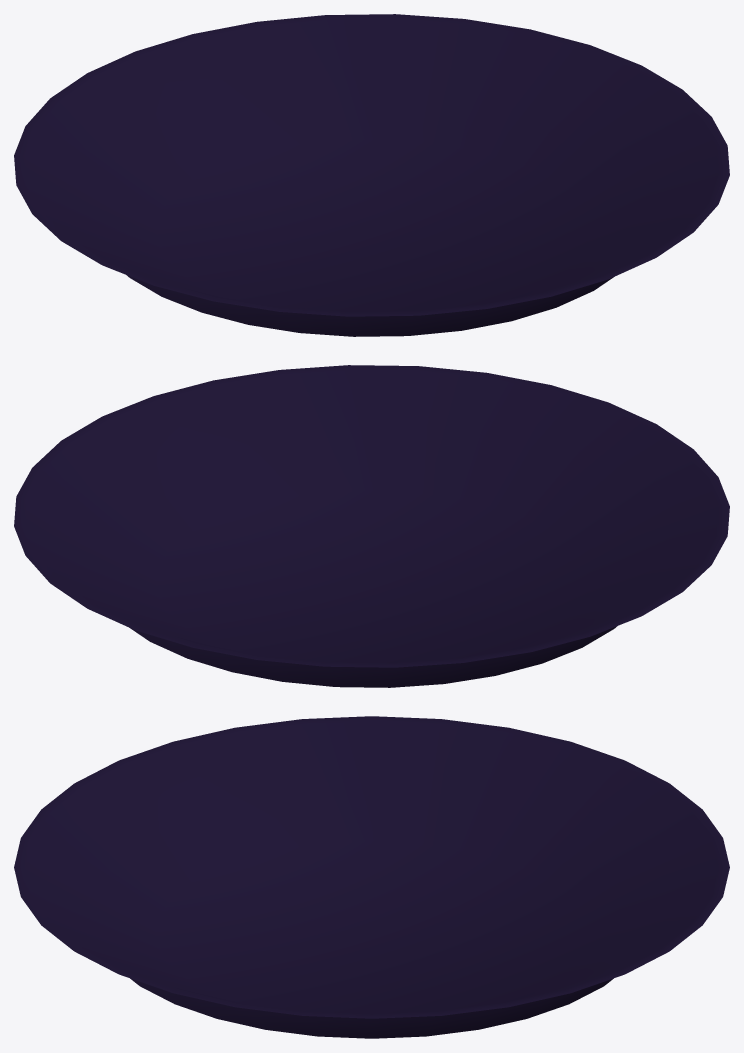
Rendered from KitchenPlate.008.fbx.
The picture shows the model from 3 angles, top to bottom: view 1: azimuth 30°, elevation 25°; view 2: azimuth 150°, elevation 25°; view 3: azimuth 270°, elevation 25°; orthographic projection.
Visible parts, largest first — view 1: KitchenPlate.008_Baked; view 2: KitchenPlate.008_Baked; view 3: KitchenPlate.008_Baked.
Boxes of the visible parts, box(x1,y1,x2,y2) form: KitchenPlate.008_Baked: box(14, 14, 729, 336); KitchenPlate.008_Baked: box(14, 365, 729, 687); KitchenPlate.008_Baked: box(14, 716, 729, 1038).
Size of the model in its own units: 23.89 by 2.49 by 23.89.
1 material, 1 textured.
